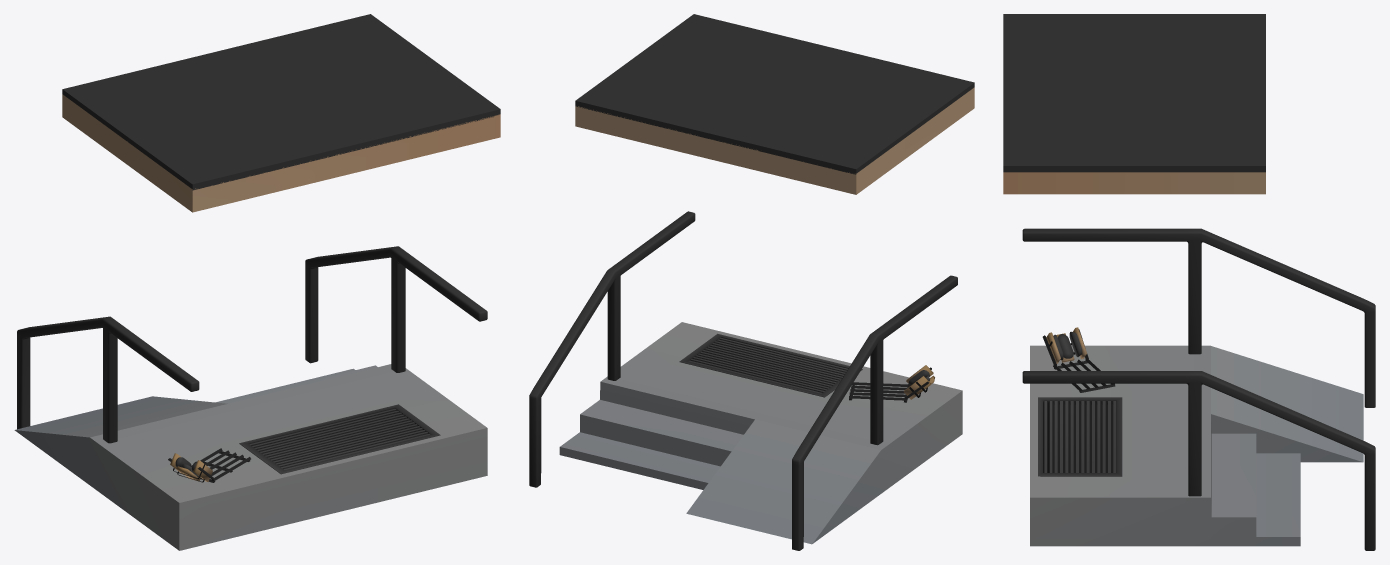
File: PadikNew.fbx
The picture shows the model from 3 angles, left to right: view 1: azimuth 30°, elevation 25°; view 2: azimuth 150°, elevation 25°; view 3: azimuth 270°, elevation 25°; orthographic projection. The views are drawn at different scales.
Visible parts, largest first — view 1: New Entrance; view 2: New Entrance; view 3: New Entrance.
Part boxes in pixels (x1,y1,x2,y2): New Entrance: [14, 14, 500, 550]; New Entrance: [529, 14, 974, 550]; New Entrance: [1003, 14, 1375, 550].
Size of the model in its own units: 6.55 by 6.78 by 7.78.
